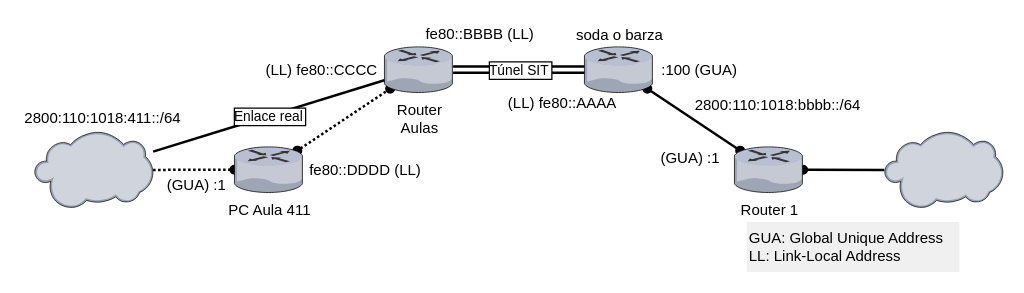
This 1024x293 diagram has some shape labels left out. Here are the shapes that lost their labels. From the top down, the centre of each, then its label:
[93,169]: Red Aula
[943,169]: Red IPv6 ARIU
